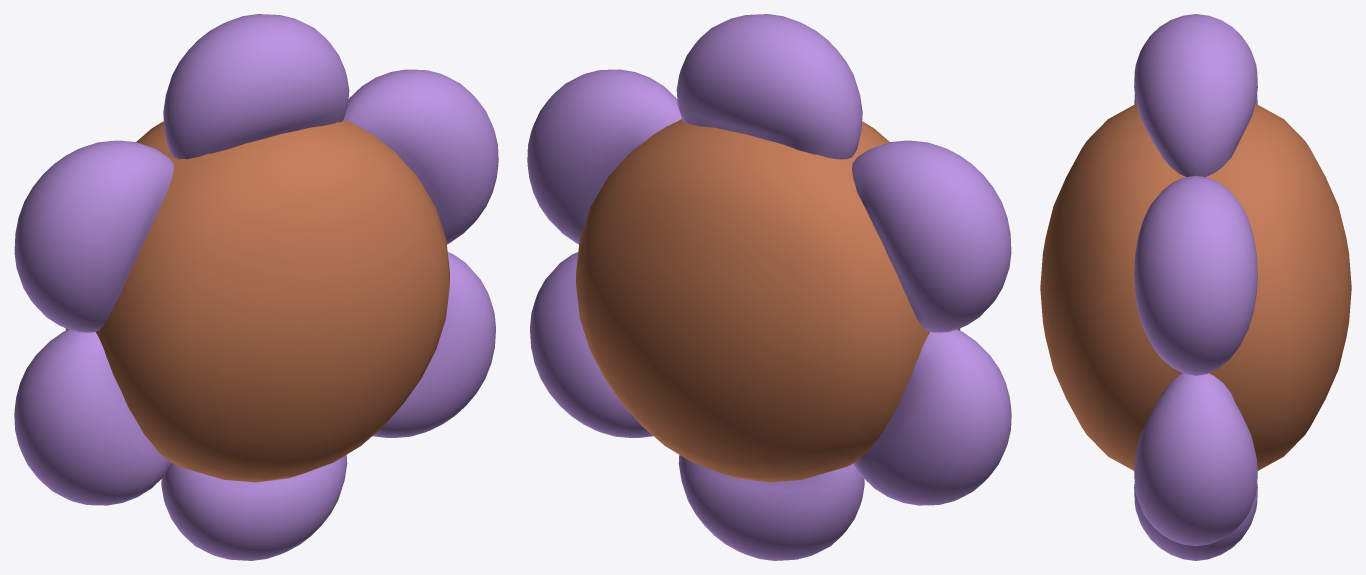
File: Flower_01_Geo.fbx
The picture shows the model from 3 angles, left to right: view 1: azimuth 30°, elevation 25°; view 2: azimuth 150°, elevation 25°; view 3: azimuth 270°, elevation 25°; orthographic projection.
Parts seen in each view (by area): view 1: Flower_01_geo; view 2: Flower_01_geo; view 3: Flower_01_geo.
Part boxes in pixels (x1=…): Flower_01_geo: x1=14, y1=14, x2=498, y2=560; Flower_01_geo: x1=527, y1=14, x2=1011, y2=560; Flower_01_geo: x1=1040, y1=14, x2=1351, y2=560.
Size of the model in its own units: 17.11 by 18.56 by 9.92.
